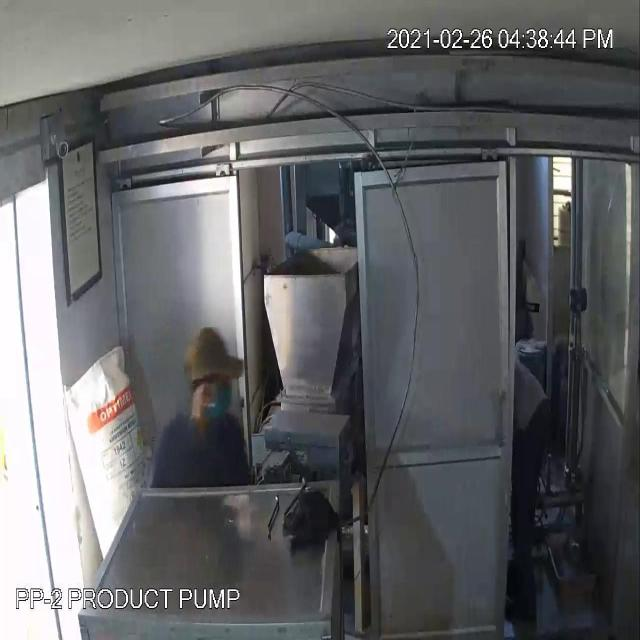no-helmet: (175, 314, 251, 399)
